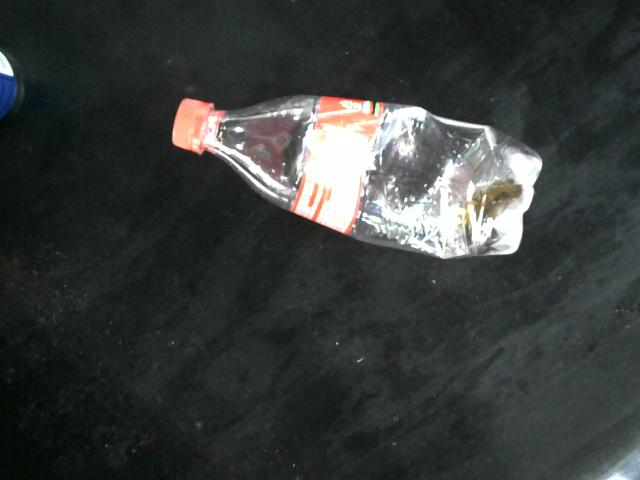bottle: (171, 92, 544, 261)
